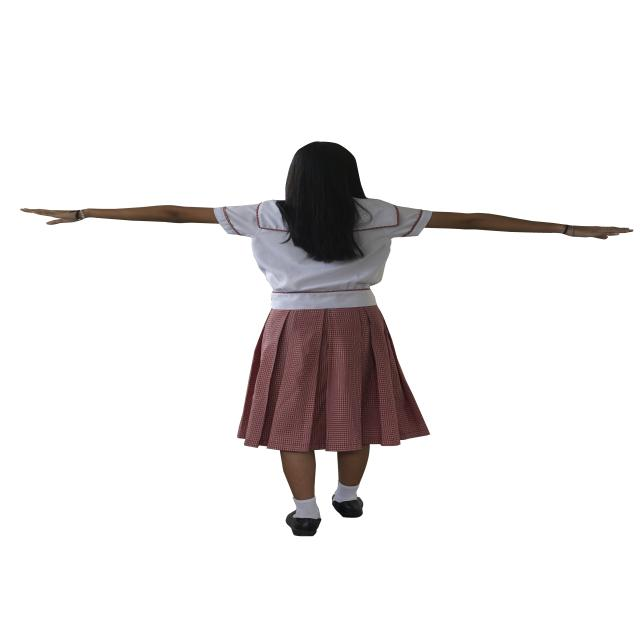pologirl: (214, 198, 432, 310)
shoes: (286, 512, 321, 537), (332, 497, 363, 518)
skirt: (238, 305, 429, 452)
